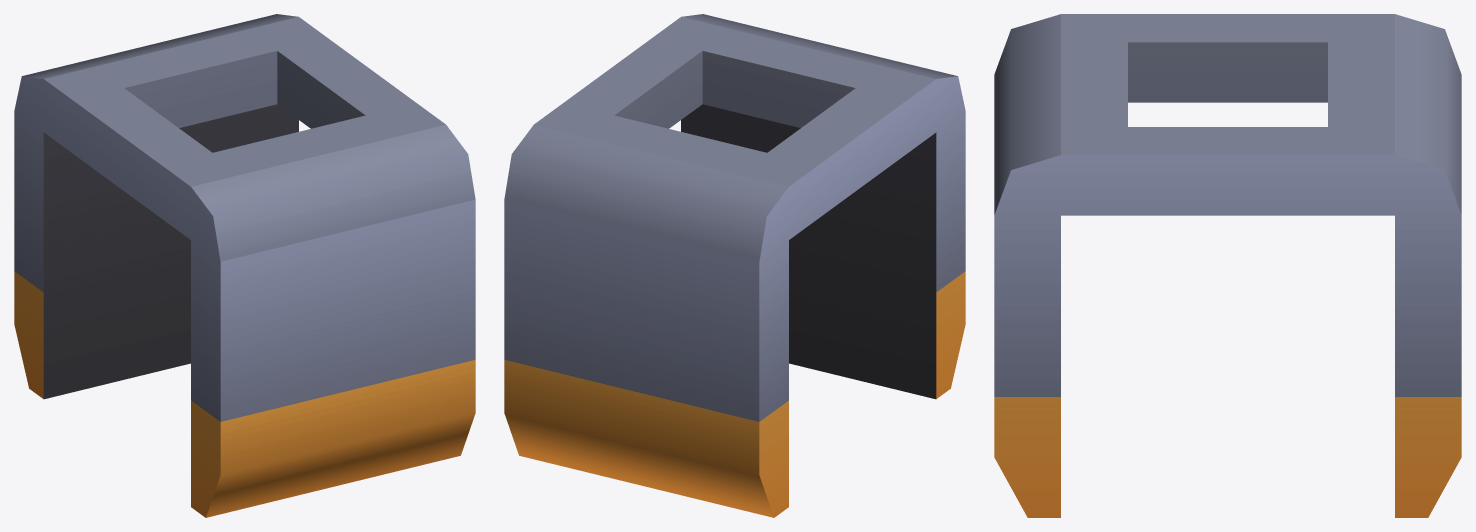
3 renders of one model, left to right at view 1: azimuth 30°, elevation 25°; view 2: azimuth 150°, elevation 25°; view 3: azimuth 270°, elevation 25°, orthographic. The views are drawn at different scales.
Visible parts, largest first — view 1: cover_stripe_top; view 2: cover_stripe_top; view 3: cover_stripe_top.
Boxes of the visible parts, box(x1,y1,x2,y2) form: cover_stripe_top: box(14, 14, 475, 517); cover_stripe_top: box(504, 14, 965, 517); cover_stripe_top: box(994, 14, 1461, 517).
Bounding box in the file's own units: 1 × 1.2 × 1.4.
1 material, 1 textured.
